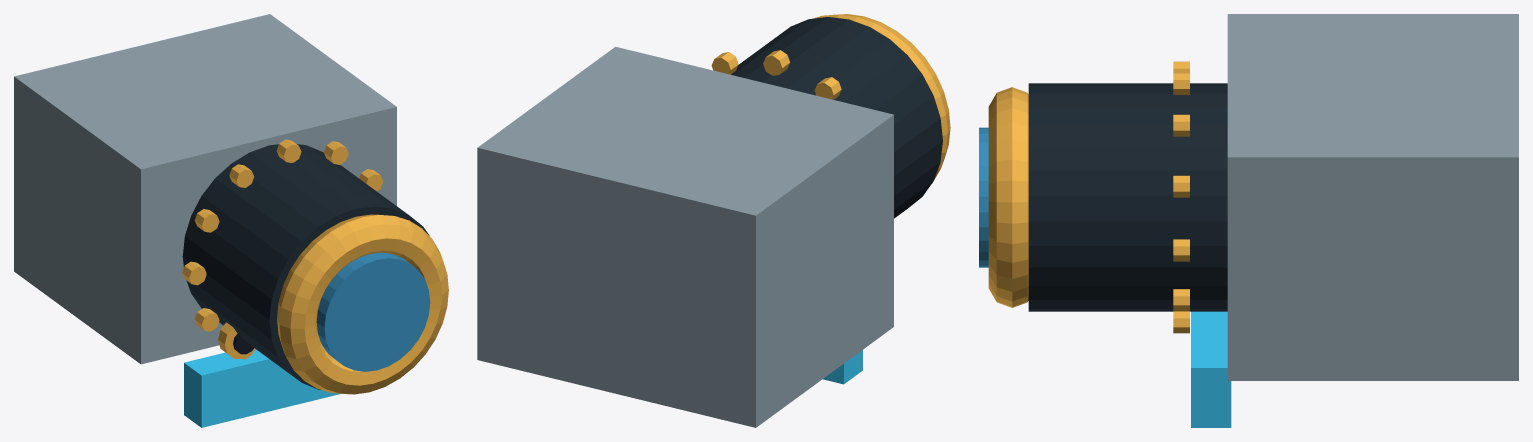
The model's file is 63_L84_MissionPayloadBoresightReference.fbx.
3 renders of one model, left to right at view 1: azimuth 30°, elevation 25°; view 2: azimuth 150°, elevation 25°; view 3: azimuth 270°, elevation 25°, orthographic. The views are drawn at different scales.
Parts seen in each view (by area): view 1: L84_MissionPayloadBoresightReference, L84_MissionPayloadBoresightReference_Part_0005; view 2: L84_MissionPayloadBoresightReference; view 3: L84_MissionPayloadBoresightReference.
Boxes of the visible parts, <box> form: L84_MissionPayloadBoresightReference: <box>14,14,448,427</box>; L84_MissionPayloadBoresightReference_Part_0005: <box>218,322,255,358</box>; L84_MissionPayloadBoresightReference: <box>477,14,950,427</box>; L84_MissionPayloadBoresightReference: <box>979,14,1518,427</box>.
Bounding box in the file's own units: 92 × 92.2 × 146.
